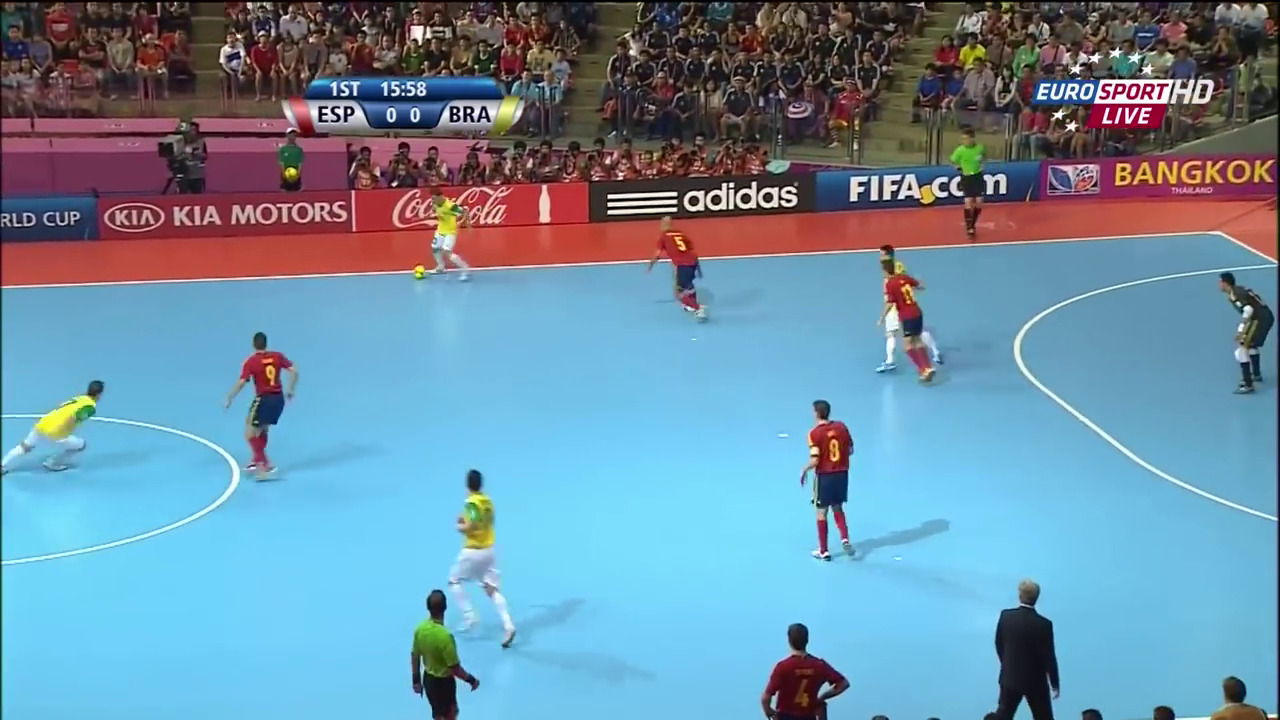ball: (410, 265, 424, 277)
person: (441, 465, 522, 644), (220, 332, 305, 484), (1, 372, 109, 470), (795, 394, 855, 560), (1210, 269, 1279, 408), (640, 220, 717, 327), (874, 259, 938, 387), (869, 244, 910, 372), (424, 190, 474, 283)
